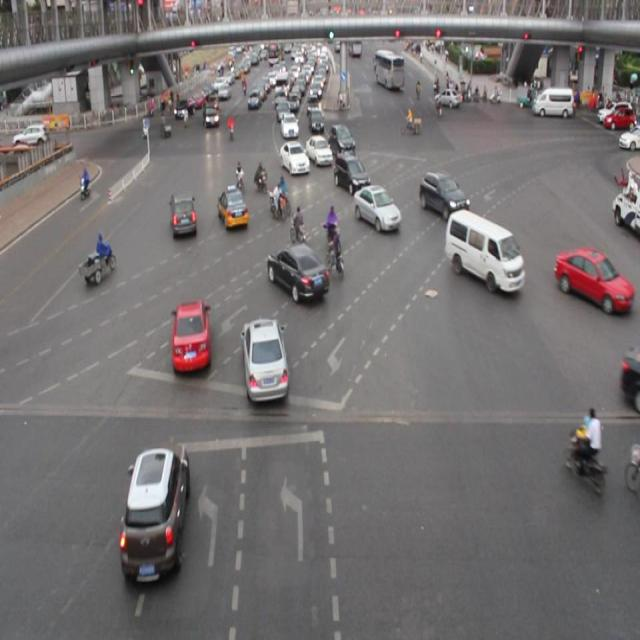car: (121, 441, 191, 582), (552, 246, 628, 316), (239, 316, 291, 402), (266, 242, 328, 300), (170, 296, 213, 377), (418, 167, 469, 221), (352, 184, 399, 231), (217, 182, 250, 233), (334, 152, 369, 194), (169, 190, 198, 240), (280, 138, 310, 176), (330, 121, 356, 163), (306, 132, 333, 168)
truck: (444, 208, 523, 290)
